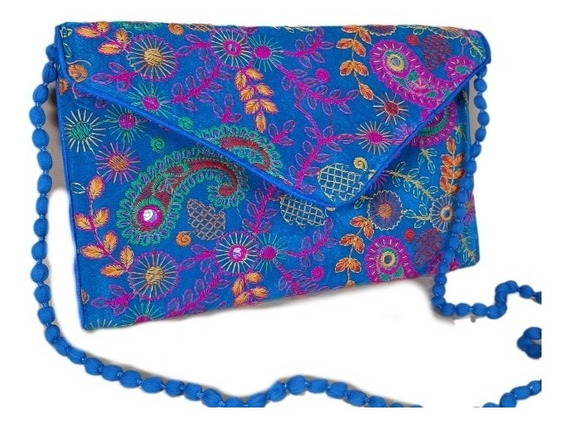cartera: (31, 18, 489, 332)
